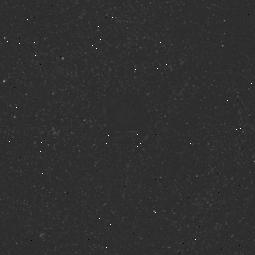proba_3_ocs: (101, 74, 156, 157)
